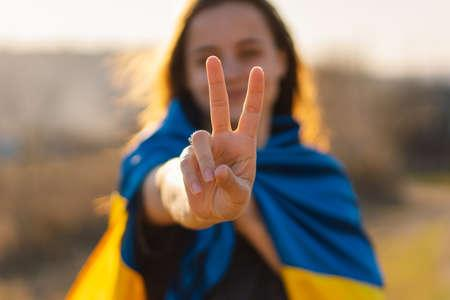peace_sign: (174, 50, 270, 226)
